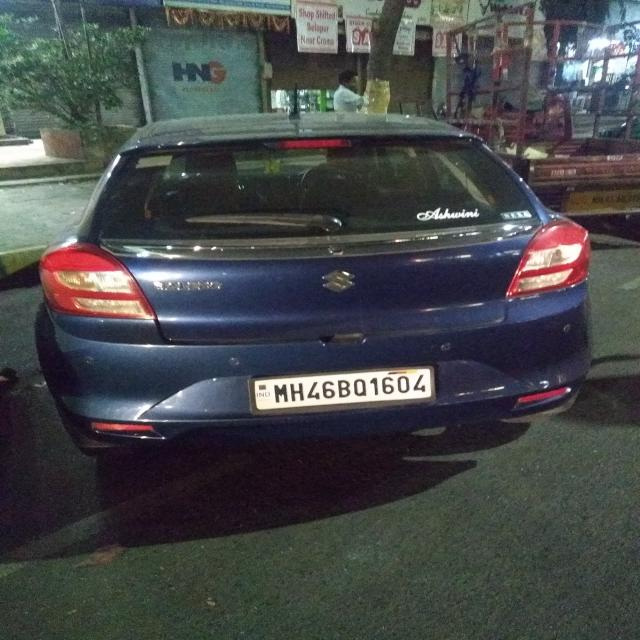Number-Plate: (253, 369, 431, 410)
